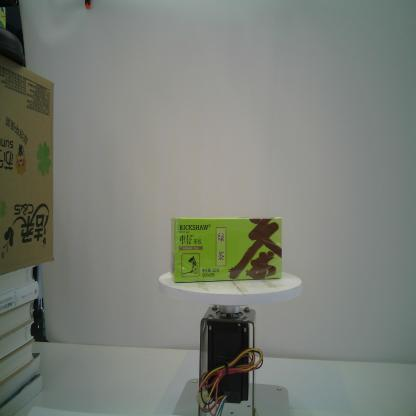Instant Drink: (169, 215, 283, 284)
